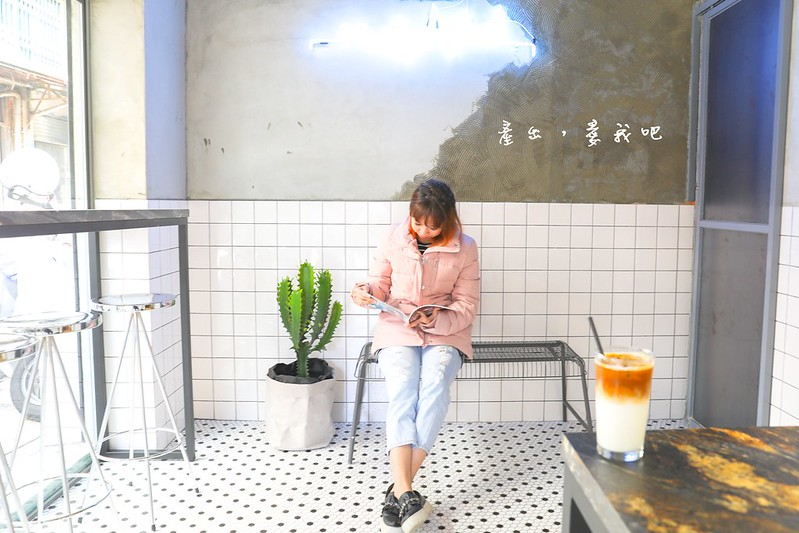people: (368, 177, 479, 533)
